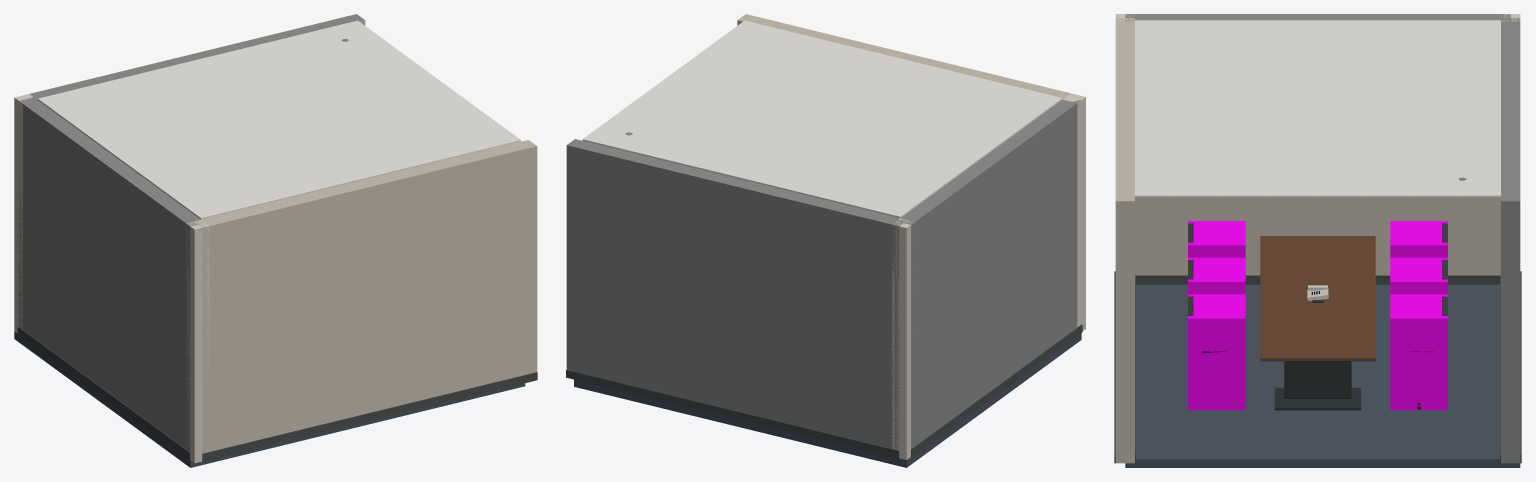
File: ENV_AdminConference.glb
The picture shows the model from 3 angles, left to right: view 1: azimuth 30°, elevation 25°; view 2: azimuth 150°, elevation 25°; view 3: azimuth 270°, elevation 25°; orthographic projection. The views are drawn at different scales.
Parts seen in each view (by area): view 1: ENV_AdminConference_Architecture, ENV_AdminConference_Ceiling, ENV_AdminConference_Posts; view 2: ENV_AdminConference_Architecture, ENV_AdminConference_Ceiling, ENV_AdminConference_Posts; view 3: ENV_AdminConference_Architecture, ENV_AdminConference_Ceiling, PROP_Table_Conference_3m_Mesh, PROP_Chair_Office_COL-colonly.008, PROP_Chair_Office_COL-colonly.009, PROP_Chair_Office_COL-colonly.007, PROP_Chair_Office_COL-colonly.006, PROP_Chair_Office_COL-colonly.005, PROP_Chair_Office_COL-colonly.004.
Boxes of the visible parts, x1,y1,x2,y2 form: ENV_AdminConference_Architecture: [14, 14, 537, 467]; ENV_AdminConference_Ceiling: [37, 20, 520, 219]; ENV_AdminConference_Posts: [14, 94, 209, 463]; ENV_AdminConference_Architecture: [566, 14, 1082, 467]; ENV_AdminConference_Ceiling: [582, 20, 1062, 218]; ENV_AdminConference_Posts: [892, 93, 1085, 459]; ENV_AdminConference_Architecture: [1114, 14, 1521, 467]; ENV_AdminConference_Ceiling: [1135, 20, 1500, 198]; PROP_Table_Conference_3m_Mesh: [1260, 236, 1375, 410]; PROP_Chair_Office_COL-colonly.008: [1188, 294, 1245, 410]; PROP_Chair_Office_COL-colonly.009: [1390, 294, 1447, 410]; PROP_Chair_Office_COL-colonly.007: [1390, 257, 1447, 294]; PROP_Chair_Office_COL-colonly.006: [1188, 257, 1245, 294]; PROP_Chair_Office_COL-colonly.005: [1390, 221, 1447, 257]; PROP_Chair_Office_COL-colonly.004: [1188, 221, 1245, 257].
Size of what is drawn, in the model's own units: 4.61 by 3.13 by 4.22.
